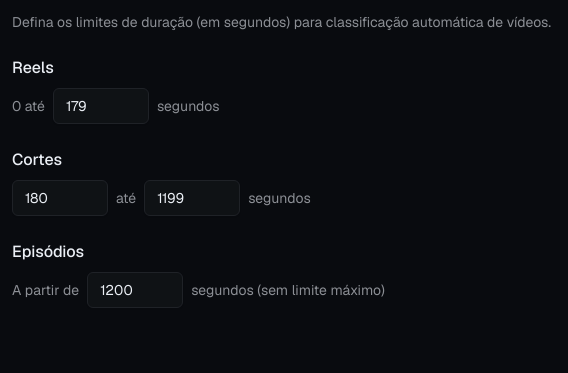
Test: DurationSettingsForm › shows validation error for overlapping values (reel max >= cut min)
The width and height of the screenshot is (568, 373).
Replace the text in the number field named "Duração máxima de Reels em segundos" with "300" at (101, 106), box [53,88,149,124]
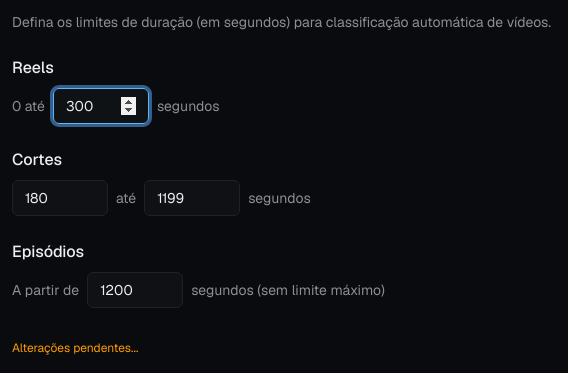
Leave the number field named "Duração máxima de Reels em segundos", box [53,88,149,124]
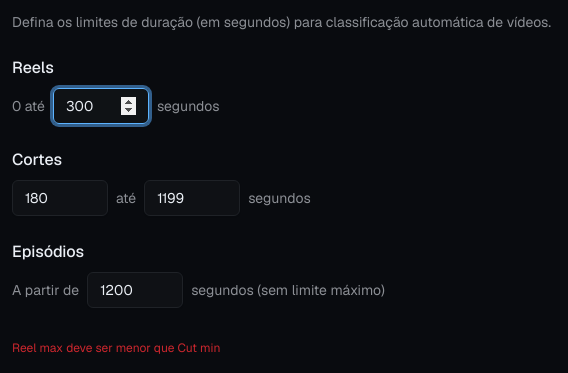
Now the text "Reel max deve ser menor que Cut min" is shown, box [12,340,220,356]
